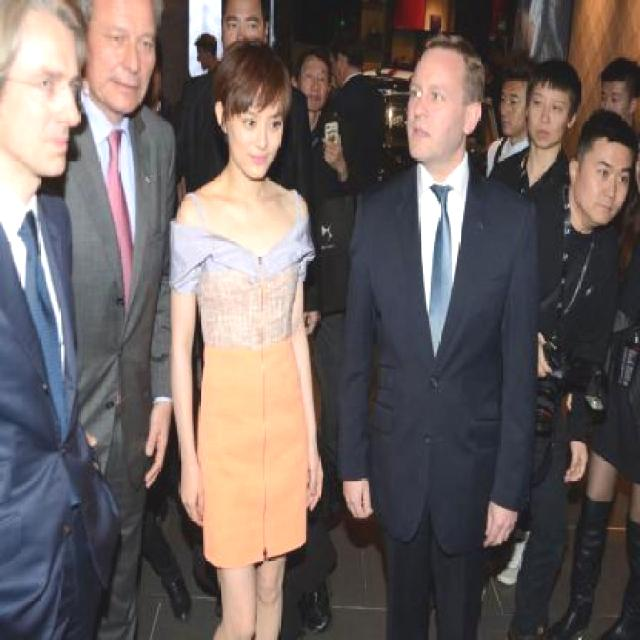face_nomask: (9, 27, 77, 182), (86, 11, 162, 123), (408, 72, 457, 156), (580, 159, 638, 226), (239, 104, 283, 178), (531, 89, 563, 154), (297, 68, 332, 114), (500, 86, 525, 145)
hand_noglove: (143, 404, 169, 488), (483, 498, 522, 550), (177, 464, 206, 528), (343, 477, 374, 520), (306, 446, 325, 511), (565, 438, 589, 484), (538, 331, 554, 380), (323, 136, 345, 170)
head_nohelmet: (215, 51, 297, 117), (0, 0, 86, 58), (405, 37, 483, 100), (49, 0, 185, 32), (577, 112, 632, 168), (580, 48, 640, 94), (526, 60, 580, 109), (495, 68, 531, 99), (298, 43, 332, 66)
person: (357, 31, 537, 640), (175, 42, 323, 616), (57, 5, 191, 626), (0, 0, 97, 640)
